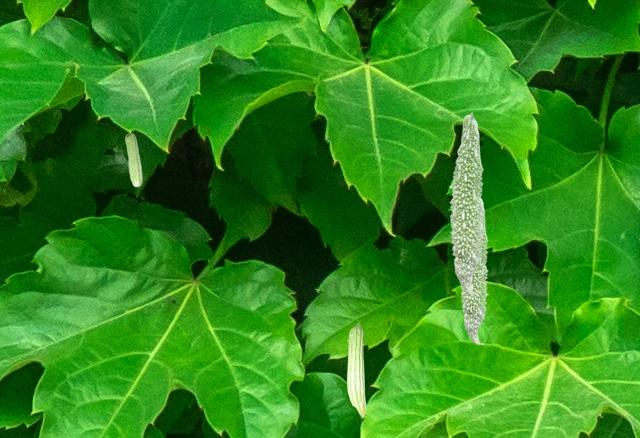ampalaya: (448, 111, 484, 295), (460, 197, 489, 345), (346, 322, 366, 417), (124, 132, 143, 187)
